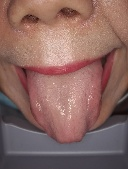tongue: (26, 76, 102, 145)
